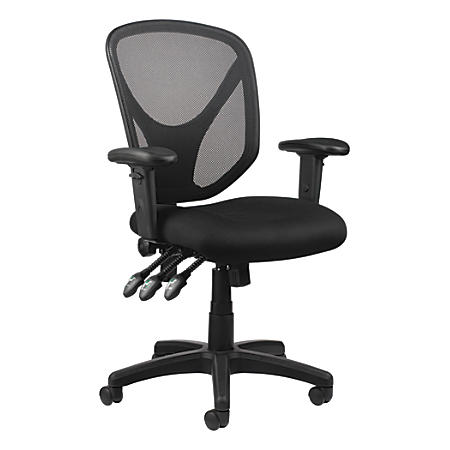chairs: (94, 16, 353, 432)
